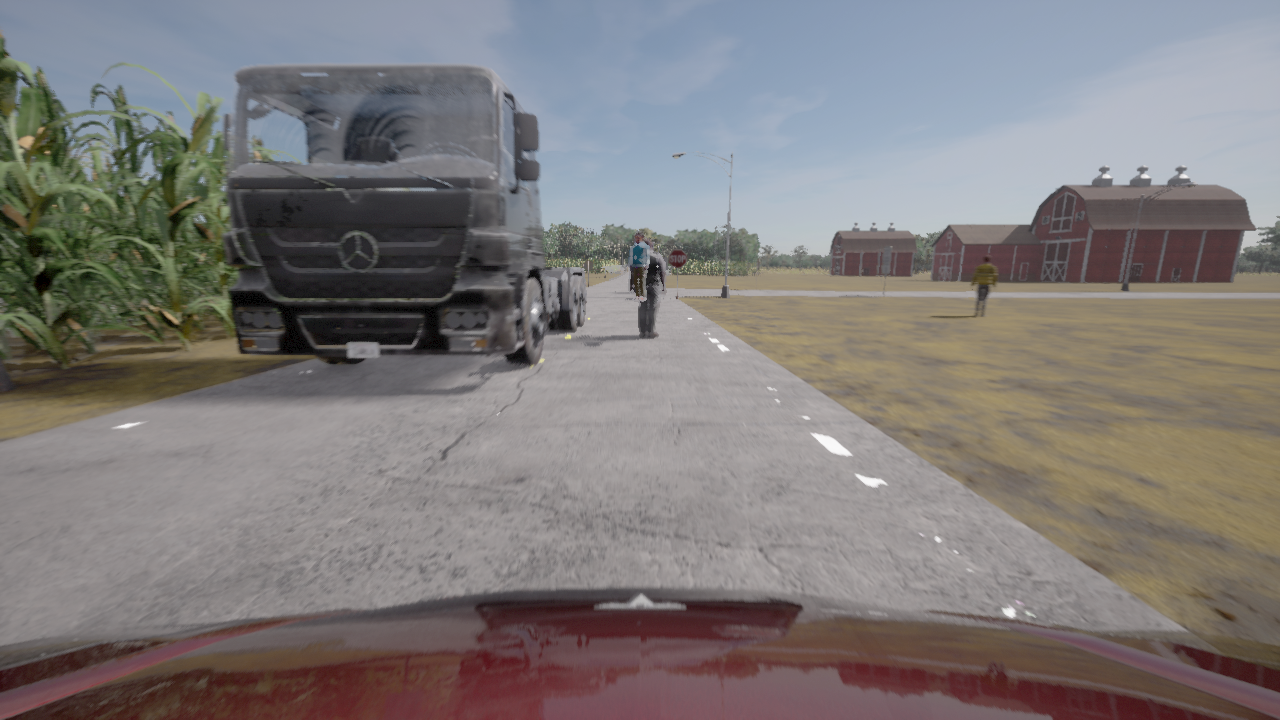cyclist: (0, 588, 1279, 719), (222, 63, 585, 365), (143, 270, 145, 273)
pedestrian: (629, 238, 665, 337), (971, 255, 996, 316), (629, 232, 648, 300)
